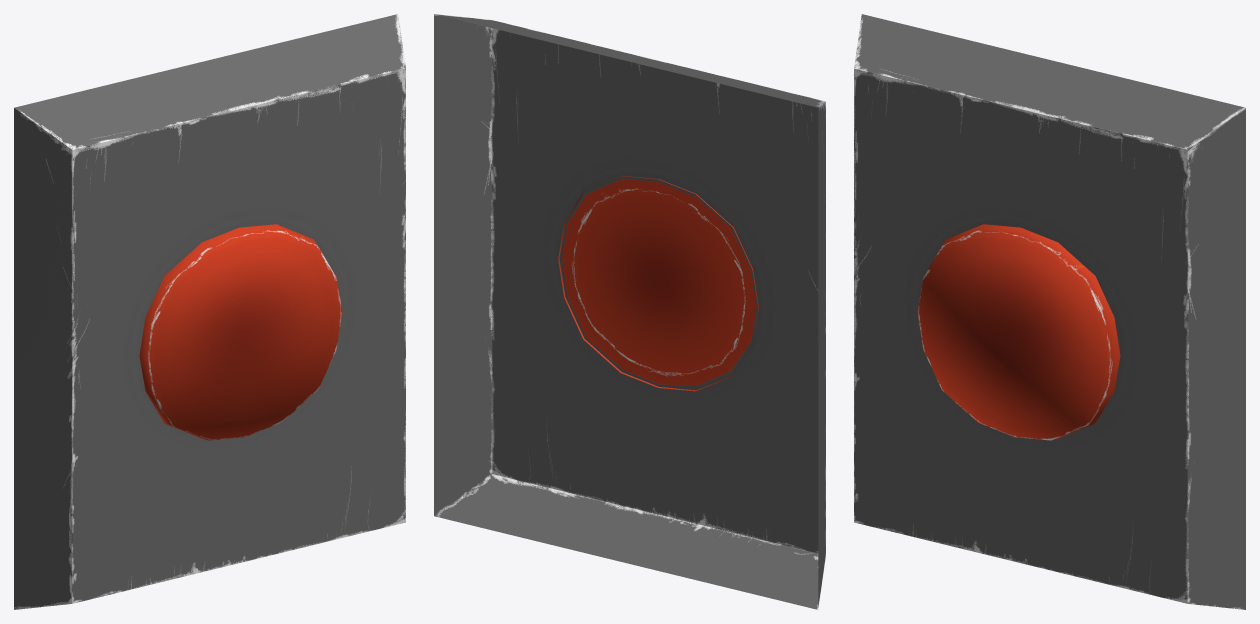
File: Button_03.FBX
3 views of the same model, side by side, from view 1: azimuth 30°, elevation 25°; view 2: azimuth 150°, elevation 25°; view 3: azimuth 330°, elevation 25° (orthographic).
Parts seen in each view (by area): view 1: Button_03, Button_03_part; view 2: Button_03, Button_03_part; view 3: Button_03, Button_03_part.
Boxes of the visible parts, x1,y1,x2,y2 form: Button_03: [14, 14, 405, 609]; Button_03_part: [139, 224, 342, 440]; Button_03: [434, 14, 825, 609]; Button_03_part: [558, 175, 758, 391]; Button_03: [854, 14, 1245, 609]; Button_03_part: [917, 224, 1120, 440].
Bounding box in the file's own units: 6.33 × 7.91 × 1.12.
Materials: 1 (1 with a texture image).
